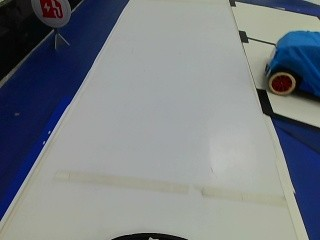battery: (32, 0, 74, 25)
car: (265, 26, 318, 97)
